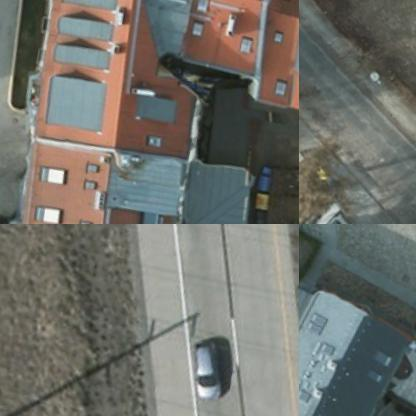car: (171, 332, 227, 404)
